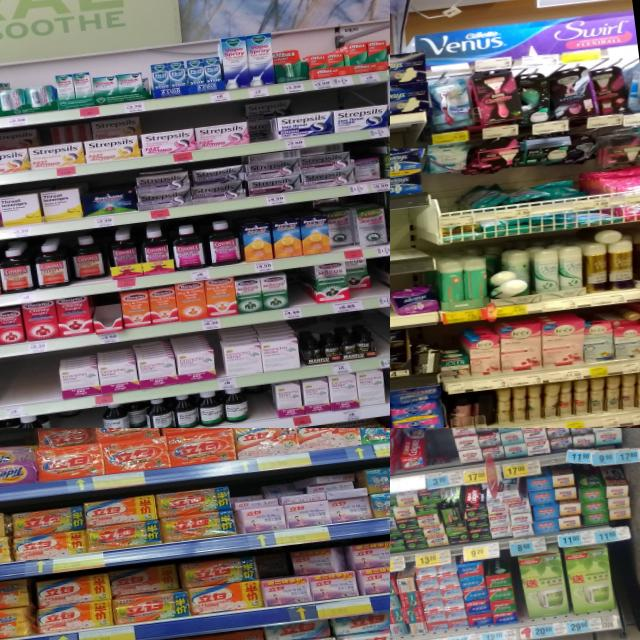100- O.O.S: (0, 351, 62, 418), (390, 210, 413, 284), (430, 428, 458, 487), (286, 270, 312, 317), (368, 259, 390, 307), (250, 390, 273, 428), (372, 319, 390, 367), (58, 414, 103, 428)
